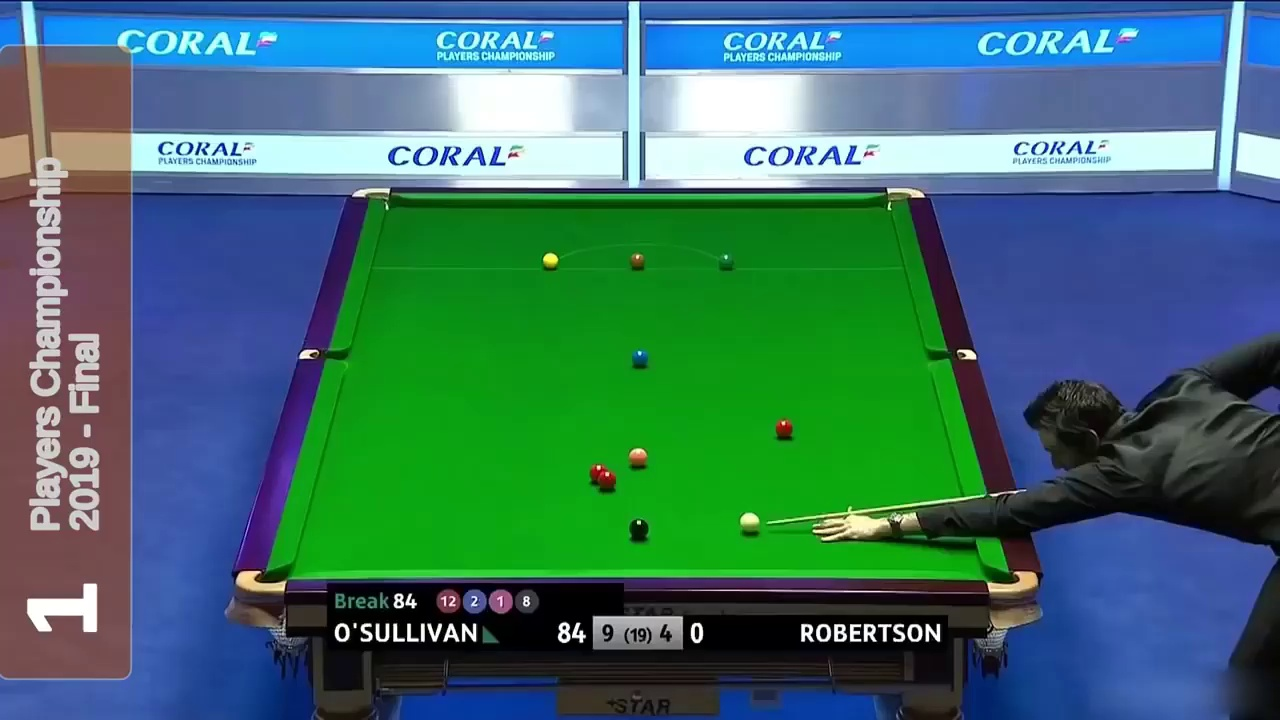ball: (736, 512, 760, 535), (629, 446, 650, 467), (772, 418, 794, 438), (630, 519, 648, 540), (596, 473, 615, 492), (630, 350, 648, 370), (541, 251, 559, 269), (628, 254, 645, 272), (718, 254, 737, 269)
